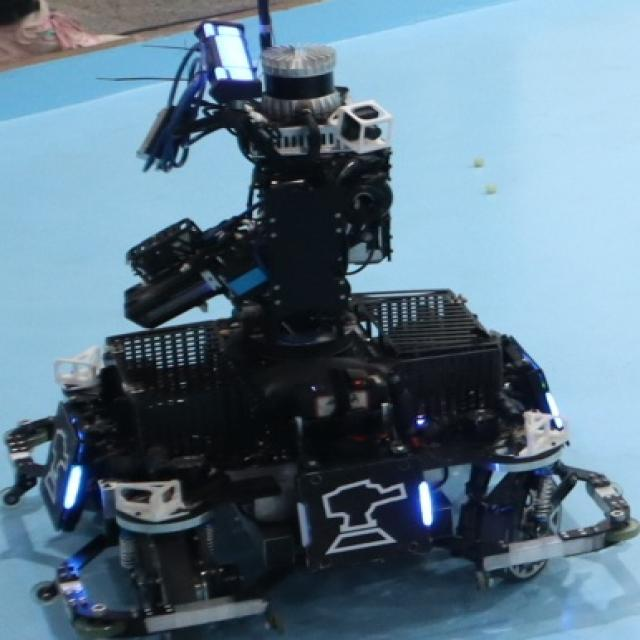Bs: (292, 469, 436, 564), (36, 421, 88, 525)
